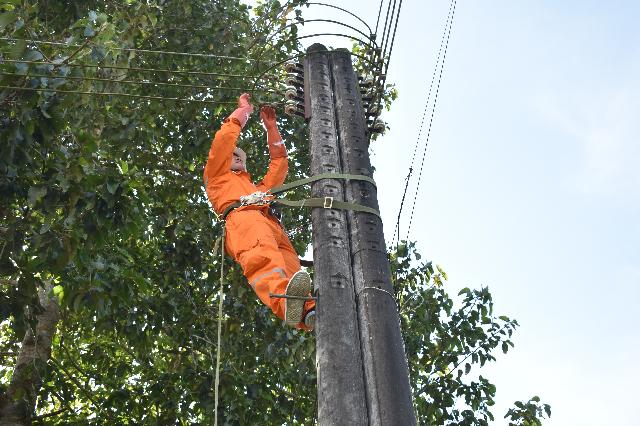gloves: (253, 105, 292, 163), (217, 87, 259, 130)
harness: (220, 194, 287, 226)
helmet: (221, 136, 250, 164)
shoes: (271, 261, 309, 323), (301, 295, 334, 327)
